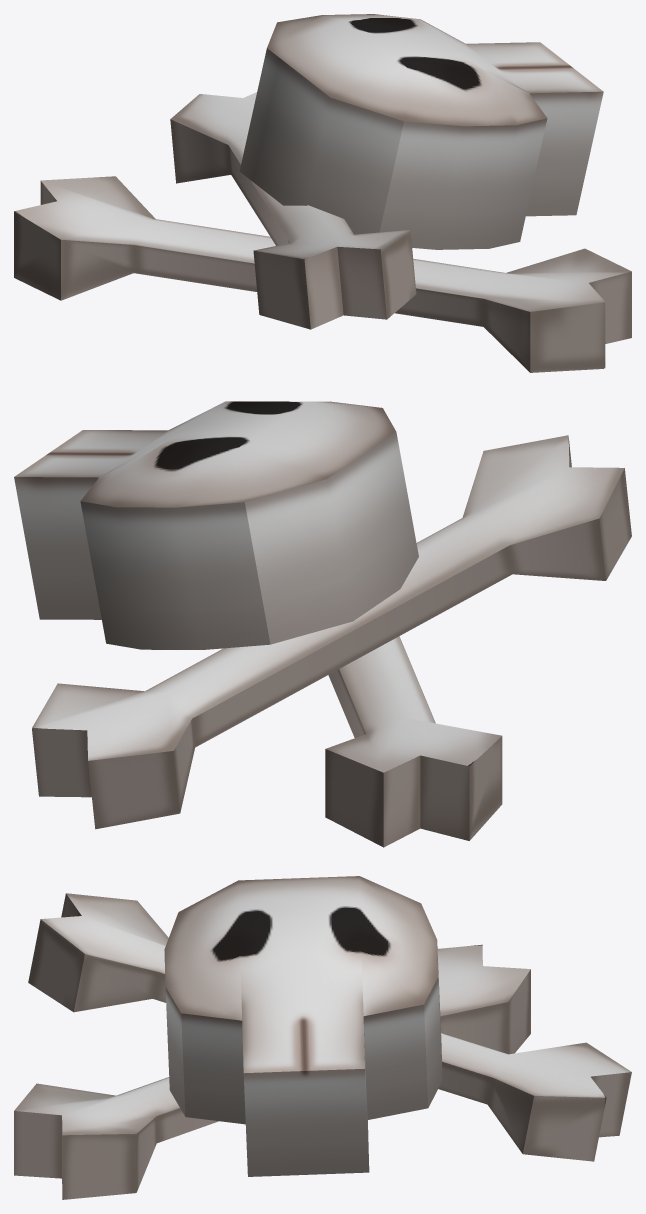
Rendered from skull.FBX.
The picture shows the model from 3 angles, top to bottom: view 1: azimuth 30°, elevation 25°; view 2: azimuth 150°, elevation 25°; view 3: azimuth 270°, elevation 25°; orthographic projection. The views are drawn at different scales.
Visible parts, largest first — view 1: Box001; view 2: Box001; view 3: Box001.
Boxes of the visible parts, x1,y1,x2,y2 form: Box001: (14, 14, 631, 372); Box001: (14, 401, 631, 847); Box001: (14, 876, 631, 1199).
Size of the model in its own units: 1.4 by 0.6869 by 1.65.
